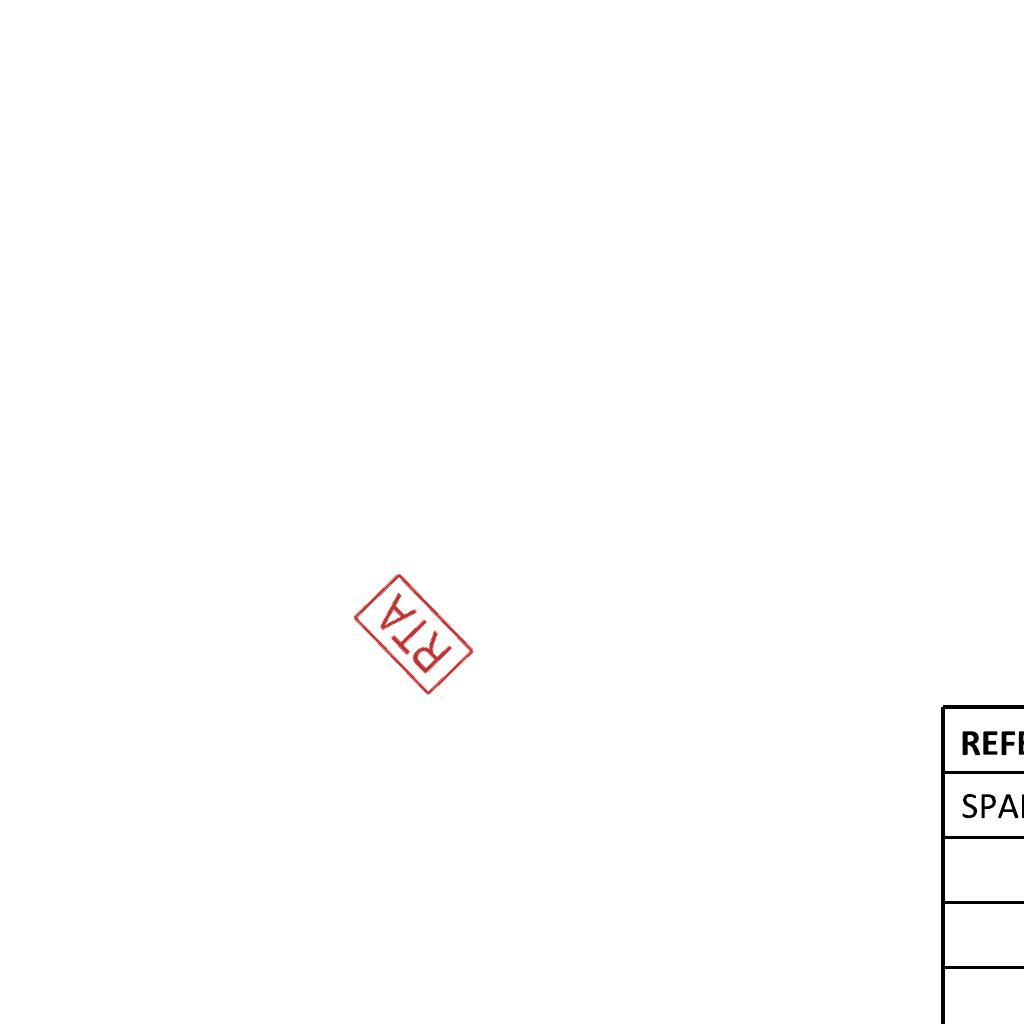Ruf-und_Abstelltaster: (350, 570, 479, 700)
